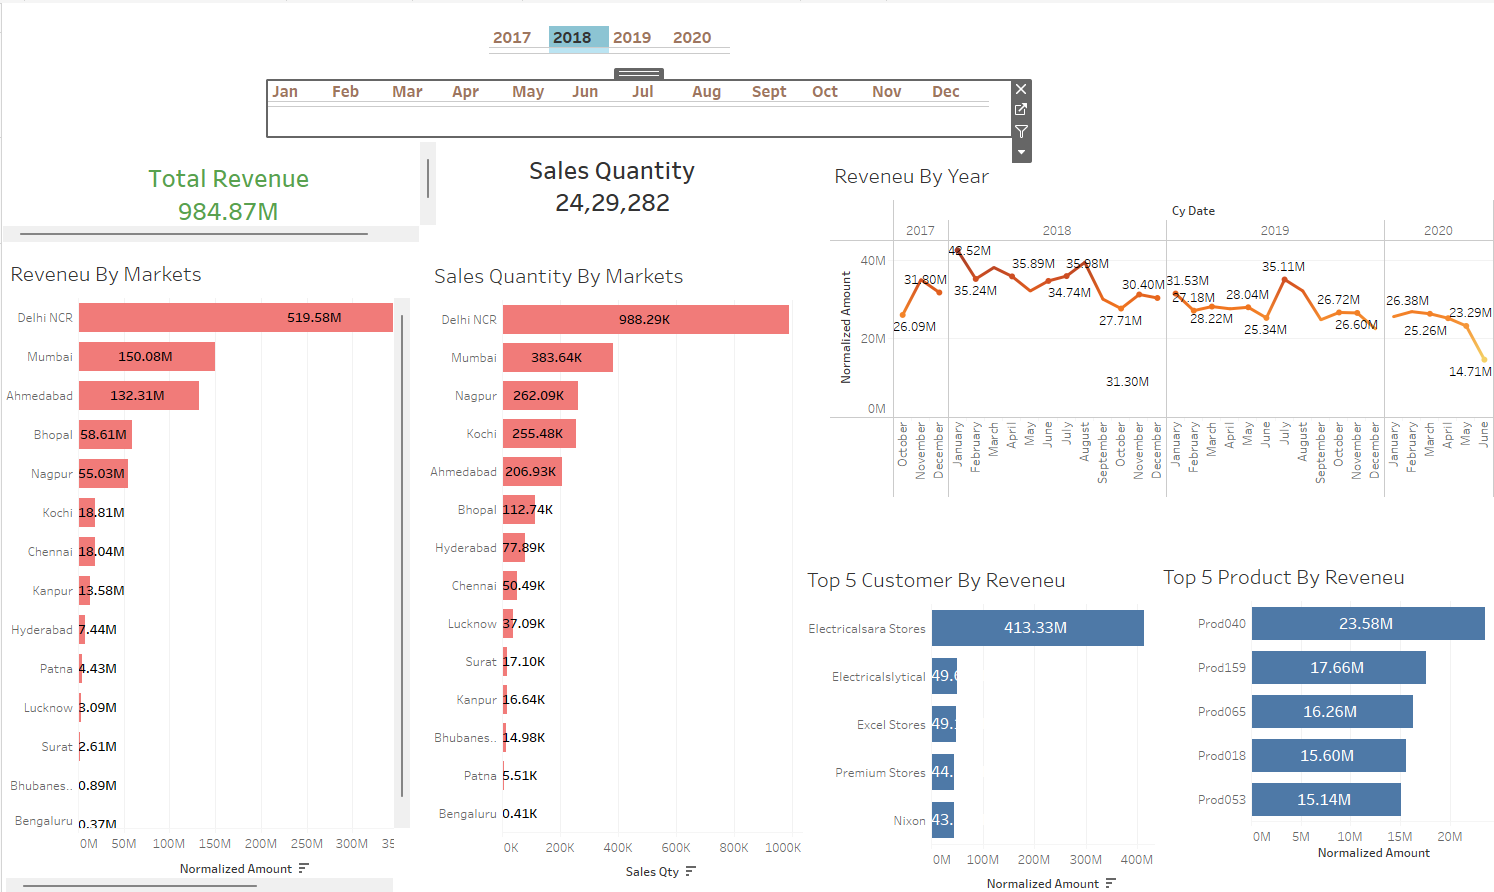

What the dashboard file says about the page in this screenshot:
{"tool":"tableau","page":{"name":"Dashboard:Reveneu Analysis","canvas":[1500,900],"ordinal":1},"visuals":[{"type":"worksheet","title":"Year","mark":"Automatic","cols":["cy_date"],"box":[487,8,293,65]},{"type":"worksheet","title":"Month","mark":"Automatic","cols":["cy_date"],"box":[266,78,743,55]},{"type":"worksheet","title":"Reveneu","mark":"Automatic","box":[1,139,433,100]},{"type":"worksheet","title":"Quantity","mark":"Automatic","box":[521,150,200,72]},{"type":"worksheet","title":"Reveneu By Year","mark":"Automatic","rows":["Calculation_1693916443407073280"],"cols":["cy_date","cy_date"],"box":[828,154,664,341]},{"type":"worksheet","title":"Reveneu By Markets","mark":"Automatic","rows":["markets_name"],"cols":["Calculation_1693916443407073280"],"box":[4,252,404,639]},{"type":"worksheet","title":"Sales Quantity By Markets","mark":"Automatic","rows":["markets_name"],"cols":["sales_qty"],"box":[428,254,379,639]},{"type":"worksheet","title":"Top 5 Product By Reveneu","mark":"Automatic","rows":["product_code (products)"],"cols":["Calculation_1693916443407073280"],"box":[1157,555,338,338]},{"type":"worksheet","title":"Top 5 Customer By Reveneu","mark":"Automatic","rows":["custmer_name"],"cols":["Calculation_1693916443407073280"],"box":[801,558,352,343]}]}

Visuals, with their boxes on the page's 1500x900 design canvas (x1, y1, x2, y2). These are canvas units, not pixel positions in the 1494x892 screenshot, which may show the page scaled, cropped or inside an application window:
"Year" worksheet: 487,8,780,73
"Month" worksheet: 266,78,1009,133
"Reveneu" worksheet: 1,139,434,239
"Quantity" worksheet: 521,150,721,222
"Reveneu By Year" worksheet: 828,154,1492,495
"Reveneu By Markets" worksheet: 4,252,408,891
"Sales Quantity By Markets" worksheet: 428,254,807,893
"Top 5 Product By Reveneu" worksheet: 1157,555,1495,893
"Top 5 Customer By Reveneu" worksheet: 801,558,1153,901
